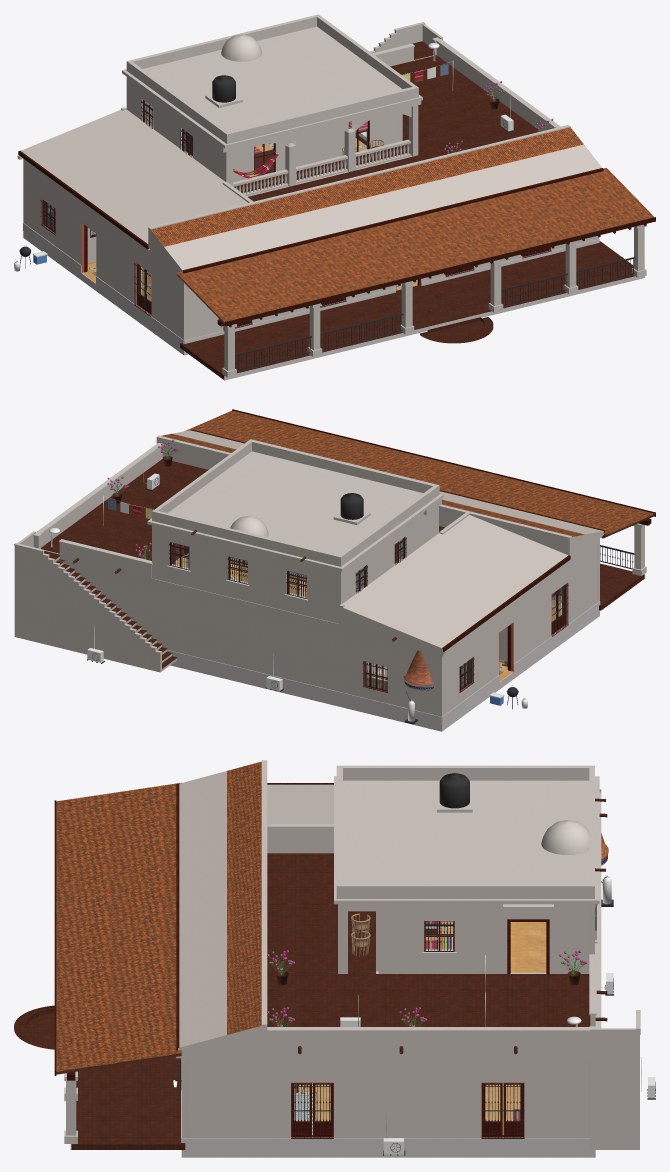
File: house.glb
3 renders of one model, top to bottom at view 1: azimuth 30°, elevation 25°; view 2: azimuth 150°, elevation 25°; view 3: azimuth 270°, elevation 25°, orthographic. The views are drawn at different scales.
Visible parts, largest first — view 1: House, HouseDetail, Grille_6; view 2: House, HouseDetail, Grille_6; view 3: House, HouseDetail, Grille_8, Grille_7, Leaf_7_L, Leaf_7_R, Leaf_8_R, Leaf_8_L.
Boxes of the visible parts, left/top/right/bottom form: House: left=17, top=14, right=655, bottom=380; HouseDetail: left=14, top=43, right=633, bottom=369; Grille_6: left=134, top=262, right=150, bottom=316; House: left=14, top=409, right=655, bottom=731; HouseDetail: left=49, top=439, right=633, bottom=724; Grille_6: left=552, top=583, right=568, bottom=636; House: left=14, top=760, right=640, bottom=1157; HouseDetail: left=173, top=798, right=655, bottom=1155; Grille_8: left=481, top=1083, right=524, bottom=1138; Grille_7: left=291, top=1083, right=333, bottom=1138; Leaf_7_L: left=313, top=1083, right=332, bottom=1137; Leaf_7_R: left=292, top=1083, right=311, bottom=1137; Leaf_8_R: left=483, top=1083, right=502, bottom=1137; Leaf_8_L: left=503, top=1083, right=522, bottom=1137.
Bounding box in the file's own units: 27.78 × 9.26 × 25.27.
Materials: 89 (41 with a texture image).
